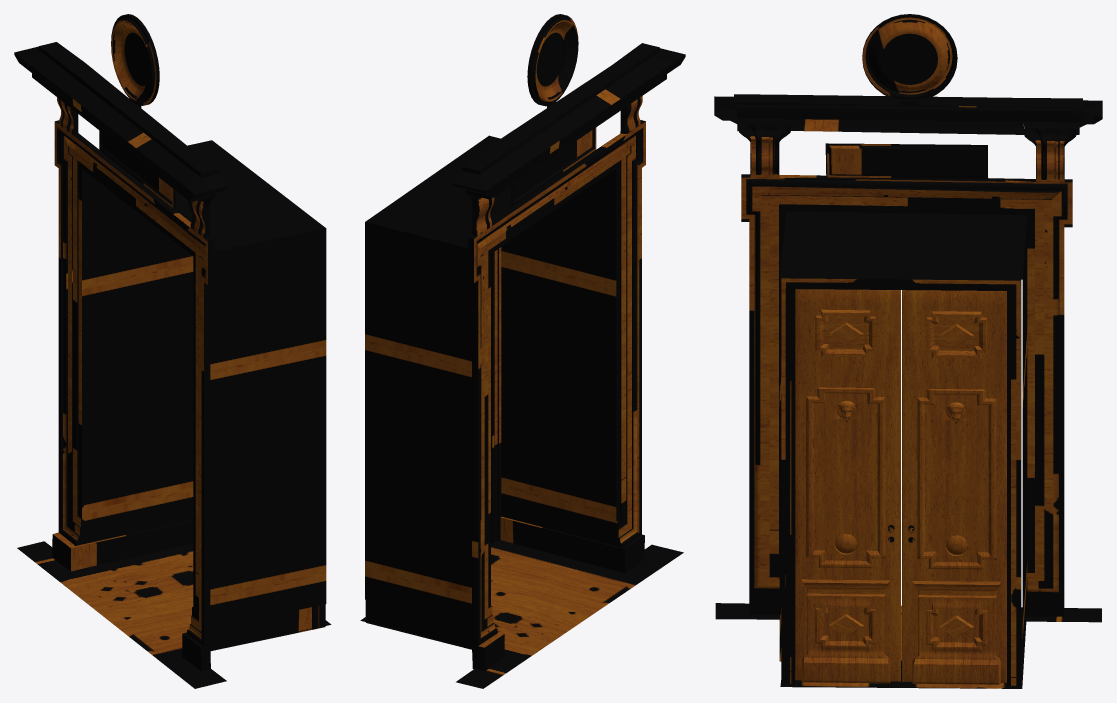
The model's file is Entry Door.fbx.
3 renders of one model, left to right at view 1: azimuth 30°, elevation 25°; view 2: azimuth 150°, elevation 25°; view 3: azimuth 270°, elevation 25°, orthographic. The views are drawn at different scales.
Parts seen in each view (by area): view 1: Object_14, Object_10; view 2: Object_14, Object_10, Object_12; view 3: Object_14, Object_16, Object_4, Object_12, Object_10.
Boxes of the visible parts, box(x1,y1,x2,y2) form: Object_14: box(14, 14, 326, 671); Object_10: box(17, 541, 331, 688); Object_14: box(365, 14, 685, 670); Object_10: box(360, 540, 683, 688); Object_12: box(365, 247, 501, 625); Object_14: box(714, 14, 1102, 671); Object_16: box(795, 289, 900, 683); Object_4: box(902, 290, 1006, 684); Object_12: box(781, 277, 1021, 686); Object_10: box(715, 603, 1101, 688).
Bounding box in the file's own units: 132 × 434 × 251.
Materials: 6 (6 with a texture image).
